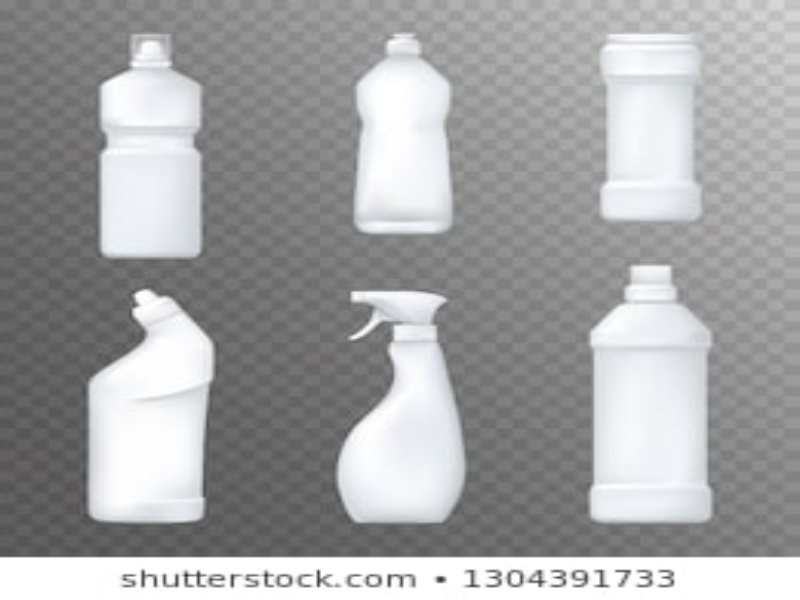detergent-bottle: (584, 262, 717, 530), (82, 285, 218, 526), (333, 288, 468, 527), (95, 30, 207, 261), (595, 30, 709, 222), (352, 30, 459, 233)
